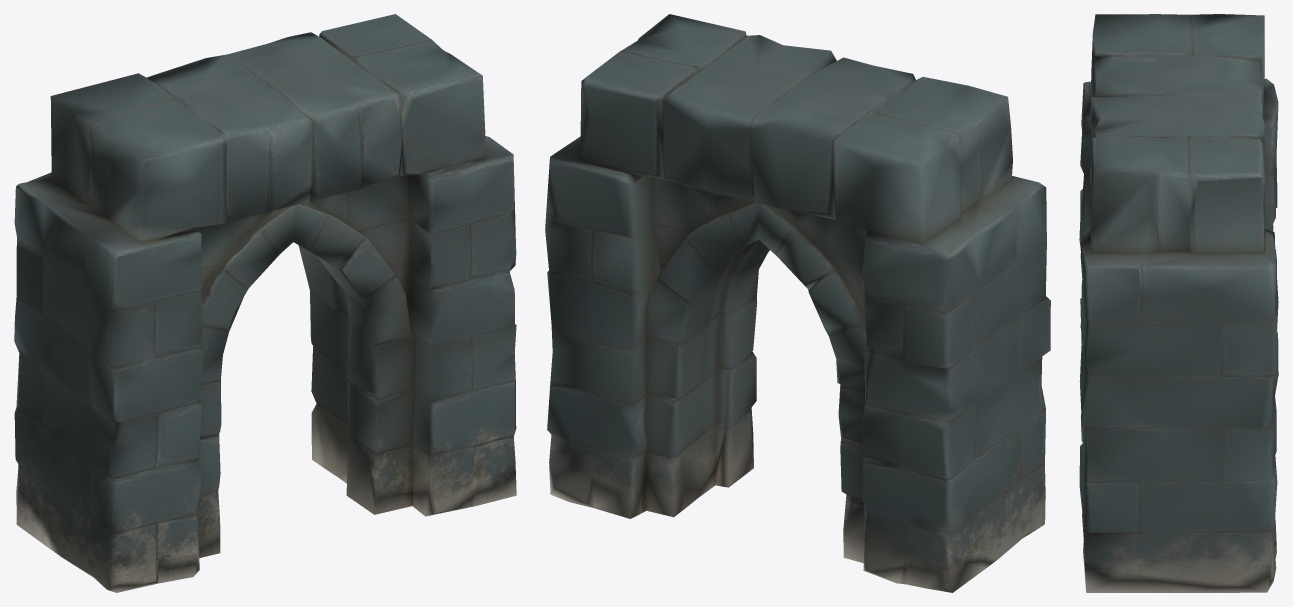
Rendered from library-arch.glb.
3 views of the same model, side by side, from view 1: azimuth 30°, elevation 25°; view 2: azimuth 150°, elevation 25°; view 3: azimuth 270°, elevation 25° (orthographic). The views are drawn at different scales.
Parts seen in each view (by area): view 1: tripo_node_774fe5c6-249b-4ef1-be3c-8f11268990db; view 2: tripo_node_774fe5c6-249b-4ef1-be3c-8f11268990db; view 3: tripo_node_774fe5c6-249b-4ef1-be3c-8f11268990db.
Part boxes in pixels (x1=…): tripo_node_774fe5c6-249b-4ef1-be3c-8f11268990db: x1=14, y1=14, x2=516, y2=592; tripo_node_774fe5c6-249b-4ef1-be3c-8f11268990db: x1=545, y1=14, x2=1050, y2=592; tripo_node_774fe5c6-249b-4ef1-be3c-8f11268990db: x1=1079, y1=14, x2=1278, y2=592.
Bounding box in the file's own units: 0.9791 × 0.9752 × 0.4312.
1 material, 1 textured.
